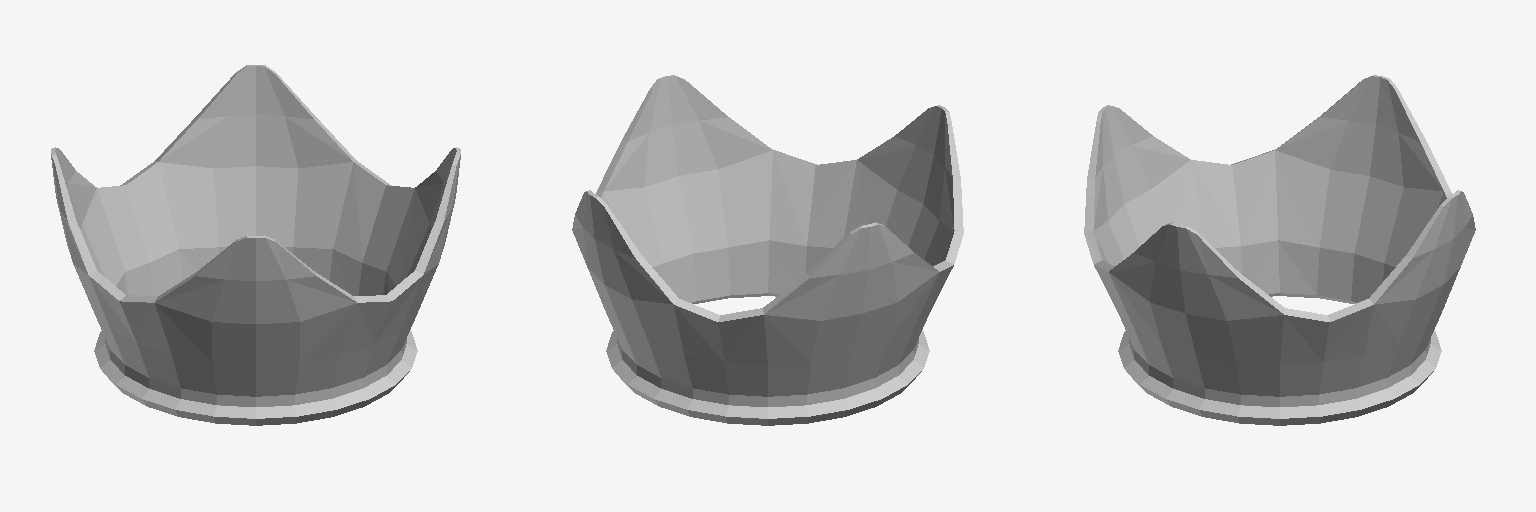
File: crown.obj
The picture shows the model from 3 angles: view 1: azimuth 30°, elevation 25°; view 2: azimuth 150°, elevation 25°; view 3: azimuth 270°, elevation 25°; orthographic projection.
Parts seen in each view (by area): view 1: Crown_Cylinder.011; view 2: Crown_Cylinder.011; view 3: Crown_Cylinder.011.
Part boxes in pixels (x1,y1,x2,y2): Crown_Cylinder.011: (51,65,460,425); Crown_Cylinder.011: (572,75,963,425); Crown_Cylinder.011: (1084,75,1475,425).
Size of the model in its own units: 0.8315 by 0.492 by 0.8315.